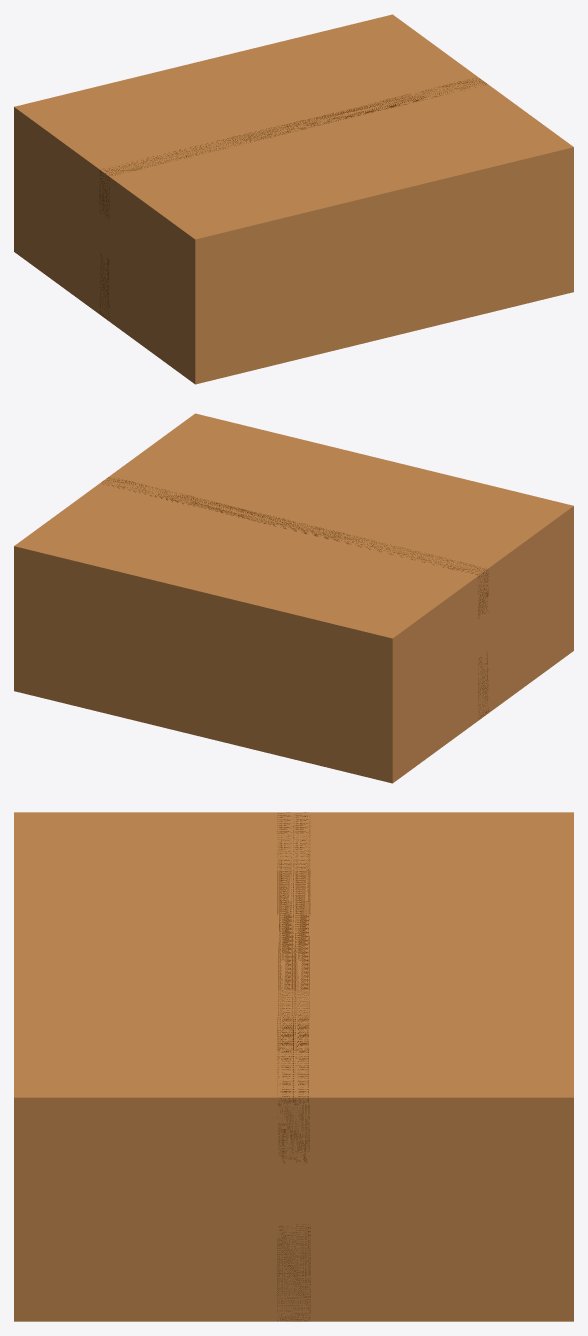
The picture shows the model from 3 angles, top to bottom: view 1: azimuth 30°, elevation 25°; view 2: azimuth 150°, elevation 25°; view 3: azimuth 270°, elevation 25°; orthographic projection. The views are drawn at different scales.
Visible parts, largest first — view 1: panneau_lat_2_1, haut_droit1, haut_droit2, panneau_lateral1, base1, panneau_lateral2; view 2: panneau_lat_2_2, haut_droit2, haut_droit1, panneau_lateral1, base1, panneau_lateral2; view 3: panneau_lateral2, haut_droit1, haut_droit2, base1.
Boxes of the visible parts, <box> form: panneau_lat_2_1: <box>200,153,569,378</box>; haut_droit1: <box>104,81,573,244</box>; haut_droit2: <box>14,14,482,177</box>; panneau_lateral1: <box>14,112,199,379</box>; base1: <box>14,247,573,384</box>; panneau_lateral2: <box>569,152,573,288</box>; panneau_lat_2_2: <box>18,552,387,777</box>; haut_droit2: <box>14,480,483,643</box>; haut_droit1: <box>105,413,573,576</box>; panneau_lateral1: <box>388,511,573,778</box>; base1: <box>14,646,573,783</box>; panneau_lateral2: <box>14,551,18,687</box>; panneau_lateral2: <box>14,1105,573,1314</box>; haut_droit1: <box>14,812,293,1105</box>; haut_droit2: <box>294,812,573,1105</box>; base1: <box>14,1314,573,1321</box>.
Bounding box in the file's own units: 41 × 15 × 34.
